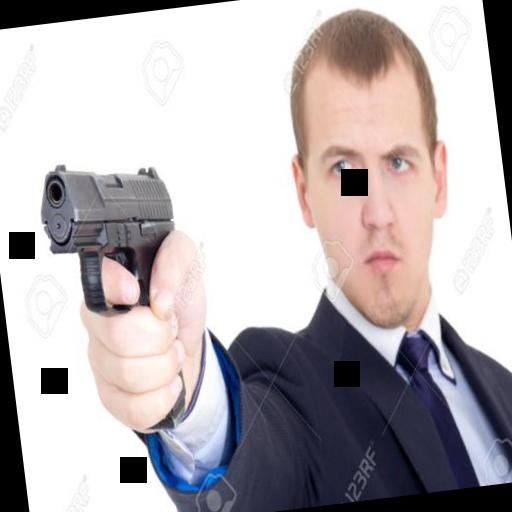Handgun: (30, 148, 185, 326)
